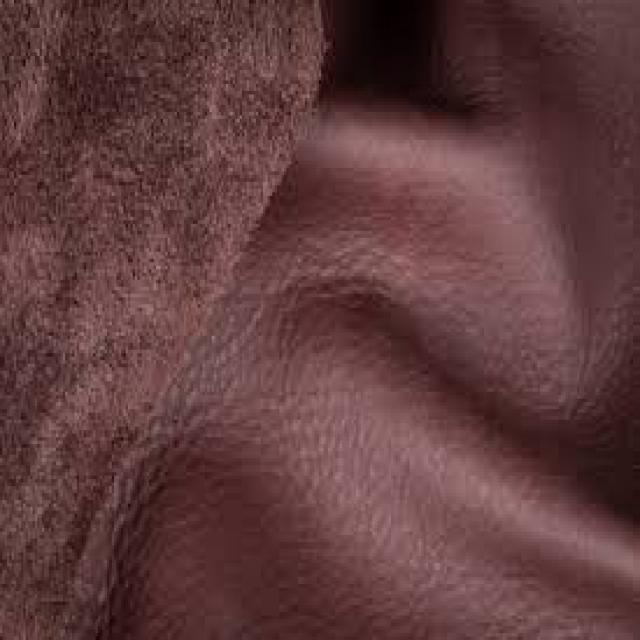Crease: (371, 53, 613, 278), (282, 254, 456, 517), (118, 436, 290, 611)
